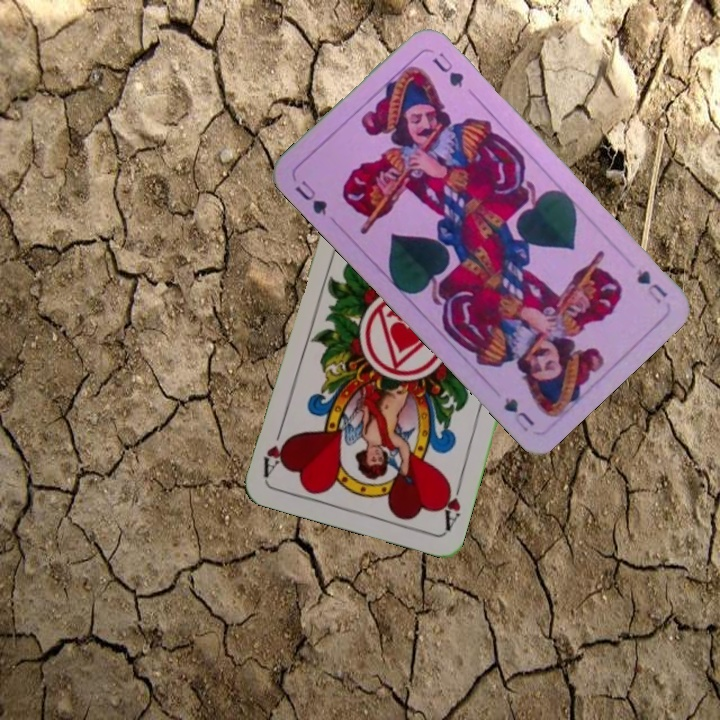GU: (291, 176, 330, 218), (632, 265, 670, 306)
HA: (436, 474, 466, 533)
